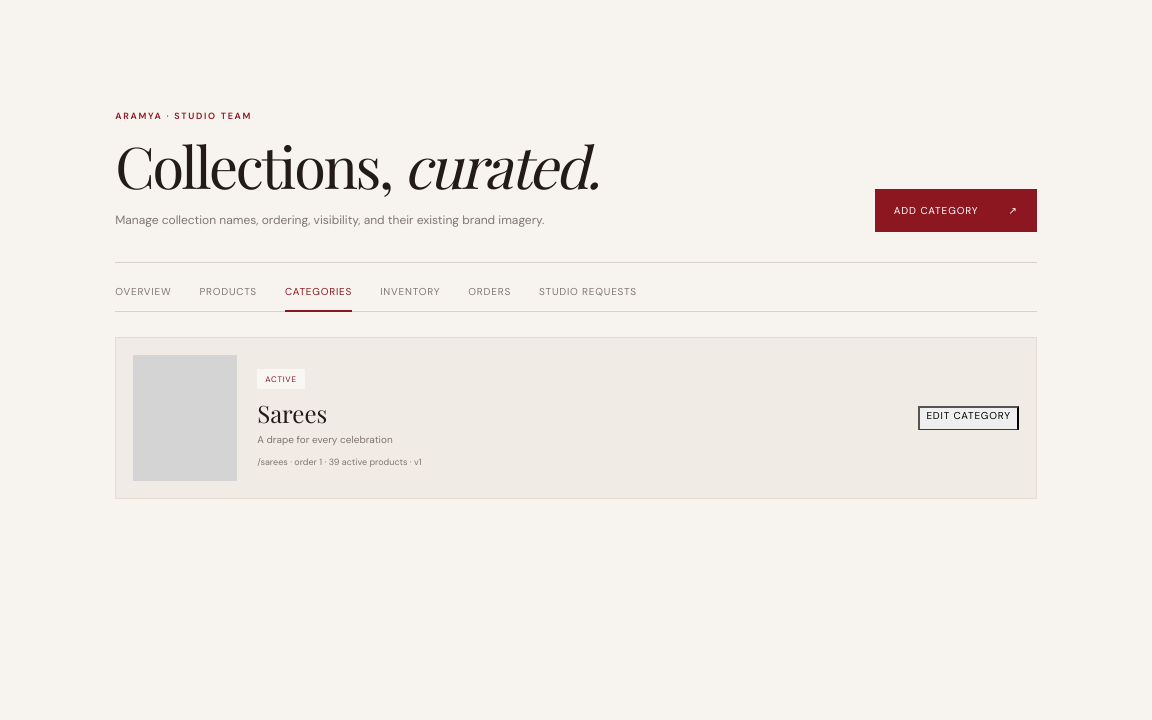
Test: admin catalog pages › shows active-product context while editing a category
Click the button "Edit category".
click(969, 418)  # box [918,406,1019,430]
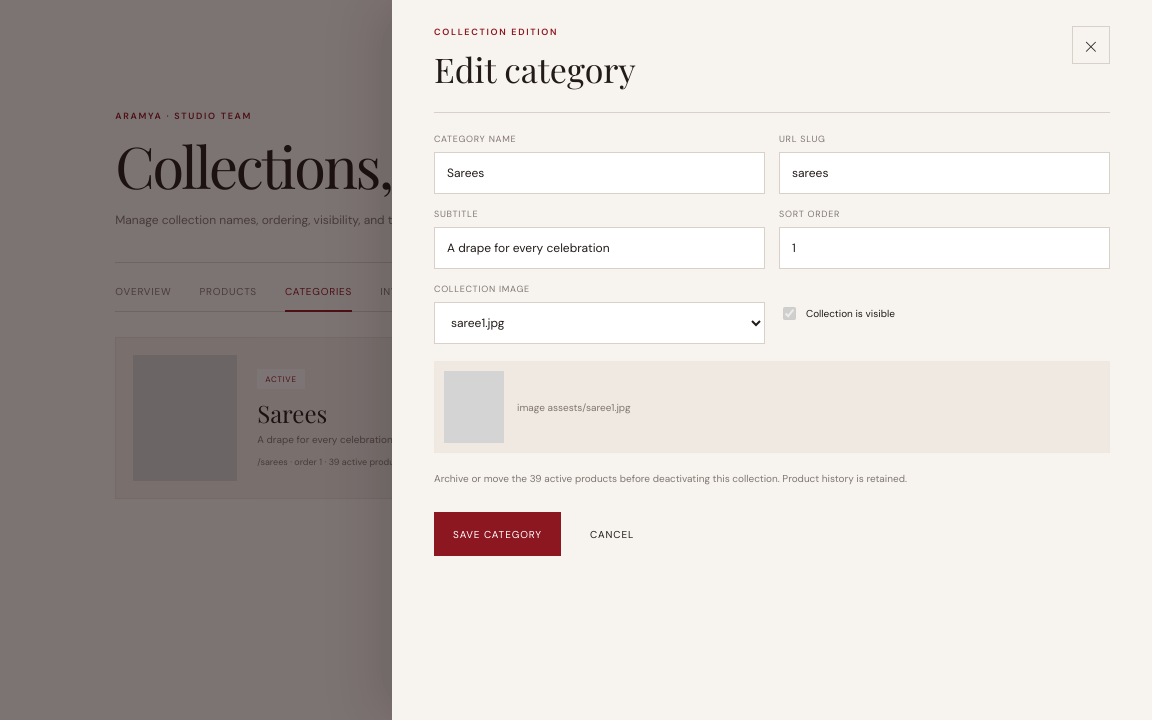
Now the text "Archive or move the 39 active products" is shown, box [434,472,907,485]
Now the checkbox labelled "Collection is visible" is disabled, box [783,307,796,320]
